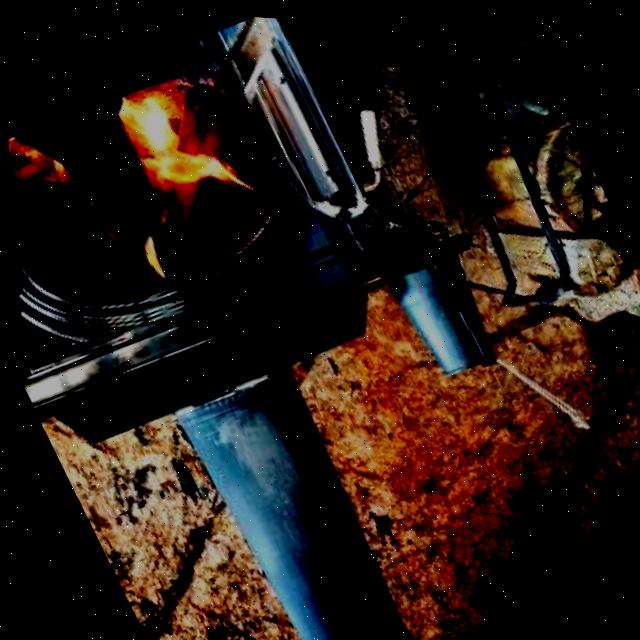Fire: (103, 57, 271, 240), (5, 110, 86, 227)
